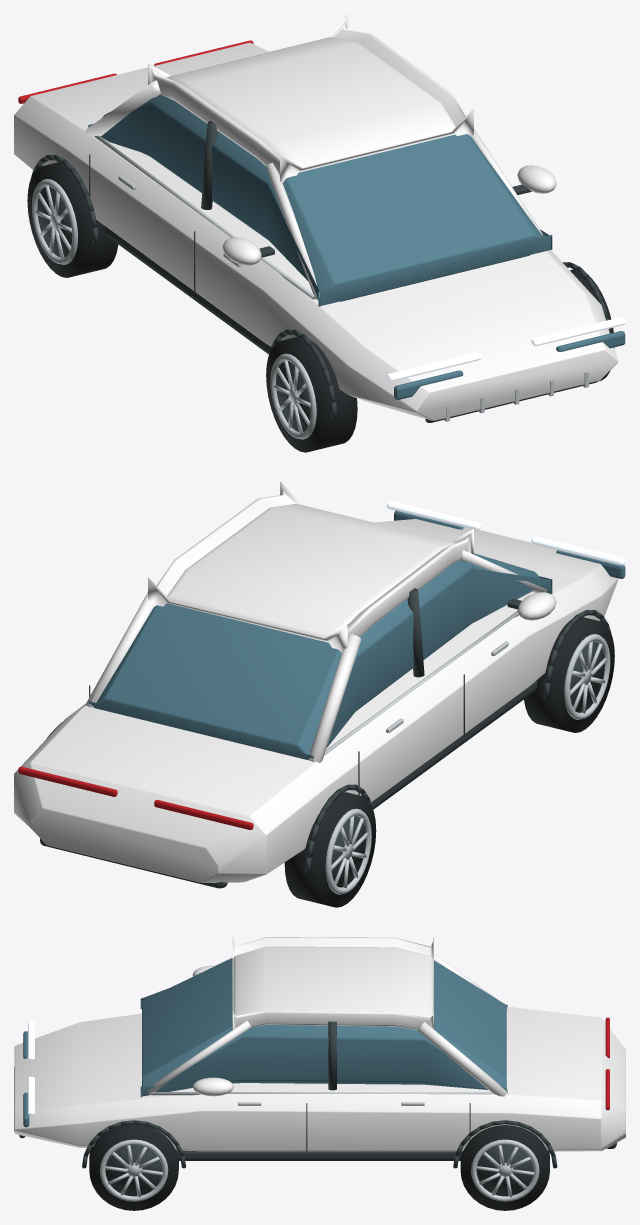
File: site-city-sedan.glb
3 views of the same model, one above another, from view 1: azimuth 30°, elevation 25°; view 2: azimuth 150°, elevation 25°; view 3: azimuth 270°, elevation 25° (orthographic). The views are drawn at different scales.
Parts seen in each view (by area): view 1: body_City_vehicle_enamel, body_Blue_reflective_glazing, body_Anthracite_anodized_metal, FL_Rubber_gaskets_and_feet, RL_Rubber_gaskets_and_feet, FL_Vehicle_polished_chrome, RL_Vehicle_polished_chrome, body_City_glow_vehicle_LEDs, body_Vehicle_polished_chrome, RL_Anthracite_anodized_metal, FL_Anthracite_anodized_metal; view 2: body_City_vehicle_enamel, body_Blue_reflective_glazing, body_Anthracite_anodized_metal, RL_Rubber_gaskets_and_feet, FL_Rubber_gaskets_and_feet, FL_Vehicle_polished_chrome, RL_Vehicle_polished_chrome, body_City_glow_vehicle_LEDs, body_Vehicle_tail_LEDs, body_Vehicle_polished_chrome, FL_Anthracite_anodized_metal, RL_Anthracite_anodized_metal; view 3: body_City_vehicle_enamel, body_Blue_reflective_glazing, body_Anthracite_anodized_metal, FR_Rubber_gaskets_and_feet, RR_Rubber_gaskets_and_feet, RR_Vehicle_polished_chrome, FR_Vehicle_polished_chrome, FR_Anthracite_anodized_metal, RR_Anthracite_anodized_metal, body_Vehicle_polished_chrome, body_City_glow_vehicle_LEDs, body_Vehicle_tail_LEDs.
Boxes of the visible parts, x1,y1,x2,y2 form: body_City_vehicle_enamel: [14, 14, 618, 420]; body_Blue_reflective_glazing: [88, 94, 625, 399]; body_Anthracite_anodized_metal: [31, 121, 611, 422]; FL_Rubber_gaskets_and_feet: [266, 337, 357, 452]; RL_Rubber_gaskets_and_feet: [27, 162, 118, 277]; FL_Vehicle_polished_chrome: [270, 353, 316, 439]; RL_Vehicle_polished_chrome: [32, 179, 77, 264]; body_City_glow_vehicle_LEDs: [386, 317, 625, 381]; body_Vehicle_polished_chrome: [94, 135, 588, 421]; RL_Anthracite_anodized_metal: [37, 186, 72, 257]; FL_Anthracite_anodized_metal: [276, 361, 310, 431]; body_City_vehicle_enamel: [14, 481, 617, 882]; body_Blue_reflective_glazing: [88, 510, 625, 761]; body_Anthracite_anodized_metal: [40, 588, 611, 888]; RL_Rubber_gaskets_and_feet: [284, 792, 376, 907]; FL_Rubber_gaskets_and_feet: [524, 617, 614, 732]; FL_Vehicle_polished_chrome: [564, 634, 610, 719]; RL_Vehicle_polished_chrome: [325, 808, 371, 894]; body_City_glow_vehicle_LEDs: [386, 501, 625, 565]; body_Vehicle_tail_LEDs: [18, 766, 253, 829]; body_Vehicle_polished_chrome: [324, 591, 546, 755]; FL_Anthracite_anodized_metal: [570, 641, 604, 712]; RL_Anthracite_anodized_metal: [331, 816, 366, 887]; body_City_vehicle_enamel: [14, 937, 625, 1151]; body_Blue_reflective_glazing: [23, 958, 507, 1127]; body_Anthracite_anodized_metal: [19, 1021, 616, 1168]; FR_Rubber_gaskets_and_feet: [89, 1124, 178, 1210]; RR_Rubber_gaskets_and_feet: [460, 1125, 549, 1210]; RR_Vehicle_polished_chrome: [471, 1139, 539, 1201]; FR_Vehicle_polished_chrome: [99, 1139, 168, 1201]; FR_Anthracite_anodized_metal: [105, 1145, 162, 1196]; RR_Anthracite_anodized_metal: [476, 1145, 533, 1196]; body_Vehicle_polished_chrome: [14, 1066, 493, 1131]; body_City_glow_vehicle_LEDs: [28, 1022, 34, 1115]; body_Vehicle_tail_LEDs: [605, 1017, 609, 1110].
Bounding box in the file's own units: 2.24 × 1.55 × 4.71.
